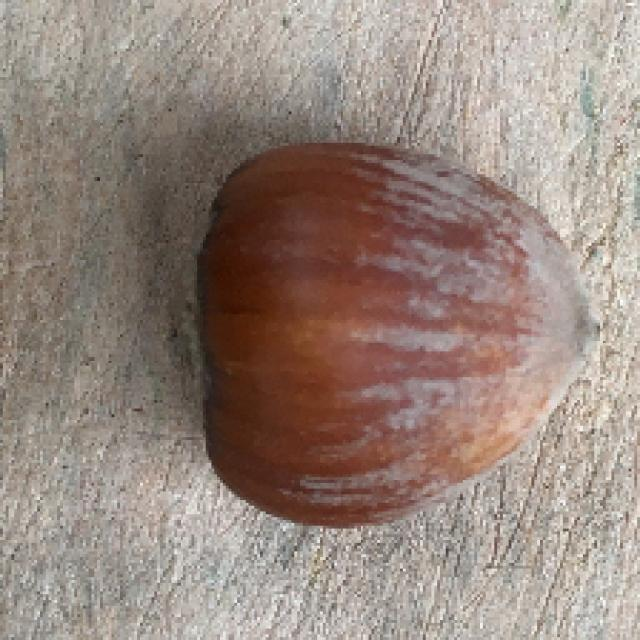qualityHazelnut: (175, 138, 606, 529)
